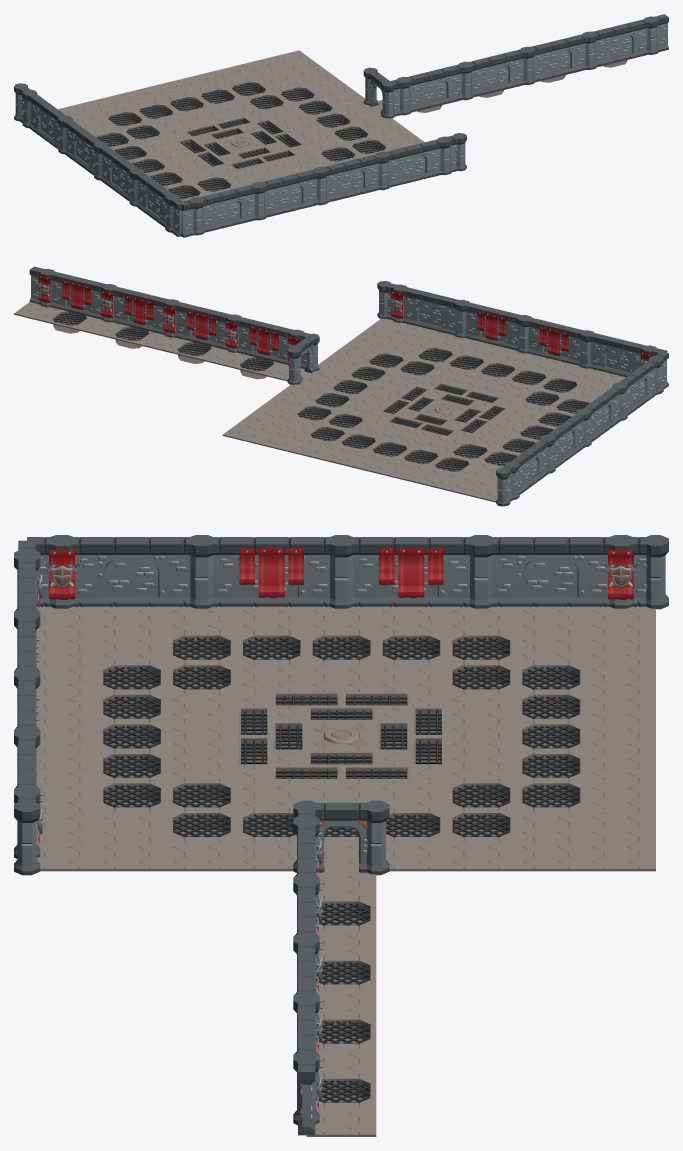
The model's file is BossFloor.glb.
3 renders of one model, top to bottom at view 1: azimuth 30°, elevation 25°; view 2: azimuth 150°, elevation 25°; view 3: azimuth 270°, elevation 25°, orthographic. The views are drawn at different scales.
Parts seen in each view (by area): view 1: floor_tile_extralarge_grates, wall_pillar.009, wall_pillar.002, wall_pillar.008, wall_pillar.001, wall_pillar.005, wall_pillar.007, wall_arched.007, wall_arched.001, wall_arched.005, wall_arched.002, wall_arched.006 (+66 smaller); view 2: floor_tile_extralarge_grates, wall_pillar.005, wall_pillar.008, wall_pillar.007, wall_arched.004, wall_arched.007, wall_pillar, wall_pillar.001, wall_pillar.002, wall_pillar.004, wall_pillar.006, wall_pillar.014 (+96 smaller); view 3: floor_tile_extralarge_grates, wall_pillar.011, wall_pillar.012, wall_pillar.014, wall_arched.008, wall_arched.011, wall_pillar.010, wall_pillar.013, wall_arched.009, wall_arched.010, banner_triple_red.006, banner_triple_red.007 (+97 smaller).
Part boxes in pixels (x1=…): floor_tile_extralarge_grates: x1=192, y1=122, x2=288, y2=163; wall_pillar.009: x1=180, y1=194, x2=214, y2=237; wall_pillar.002: x1=448, y1=59, x2=483, y2=102; wall_pillar.008: x1=241, y1=179, x2=276, y2=222; wall_pillar.001: x1=510, y1=44, x2=545, y2=87; wall_pillar.005: x1=365, y1=149, x2=400, y2=192; wall_pillar.007: x1=303, y1=164, x2=338, y2=207; wall_arched.007: x1=211, y1=187, x2=245, y2=229; wall_arched.001: x1=417, y1=67, x2=452, y2=109; wall_arched.005: x1=334, y1=157, x2=369, y2=199; wall_arched.002: x1=479, y1=52, x2=514, y2=94; wall_arched.006: x1=272, y1=172, x2=307, y2=214; floor_tile_extralarge_grates: x1=395, y1=389, x2=492, y2=430; wall_pillar.005: x1=444, y1=297, x2=479, y2=340; wall_pillar.008: x1=569, y1=328, x2=604, y2=370; wall_pillar.007: x1=507, y1=312, x2=542, y2=355; wall_arched.004: x1=413, y1=290, x2=448, y2=332; wall_arched.007: x1=600, y1=335, x2=635, y2=376; wall_pillar: x1=92, y1=281, x2=127, y2=324; wall_pillar.001: x1=154, y1=297, x2=189, y2=339; wall_pillar.002: x1=216, y1=312, x2=251, y2=354; wall_pillar.004: x1=29, y1=266, x2=64, y2=309; wall_pillar.006: x1=382, y1=282, x2=417, y2=324; wall_pillar.014: x1=607, y1=377, x2=632, y2=424; floor_tile_extralarge_grates: x1=271, y1=706, x2=411, y2=765; wall_pillar.011: x1=446, y1=535, x2=516, y2=608; wall_pillar.012: x1=306, y1=535, x2=376, y2=608; wall_pillar.014: x1=166, y1=535, x2=236, y2=608; wall_arched.008: x1=516, y1=537, x2=585, y2=606; wall_arched.011: x1=97, y1=537, x2=166, y2=606; wall_pillar.010: x1=586, y1=535, x2=655, y2=608; wall_pillar.013: x1=27, y1=535, x2=96, y2=608; wall_arched.009: x1=376, y1=537, x2=446, y2=607; wall_arched.010: x1=236, y1=537, x2=306, y2=607; banner_triple_red.006: x1=239, y1=548, x2=303, y2=598; banner_triple_red.007: x1=379, y1=548, x2=443, y2=598.
Size of the model in its own units: 72.75 by 5 by 37.5.
Materials: 143 (143 with a texture image).
